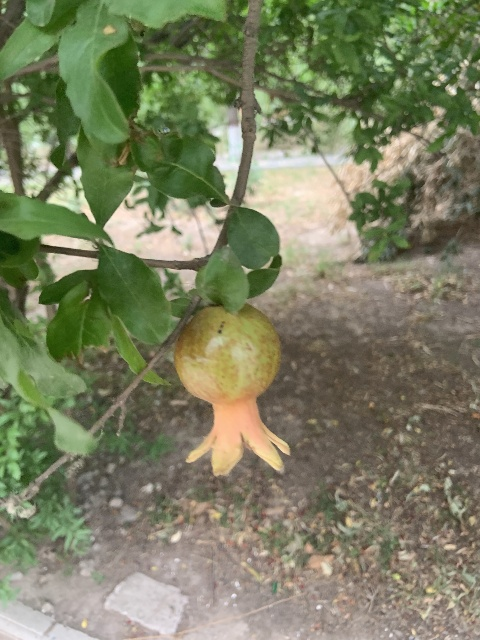early-fruit: (173, 304, 293, 477)
